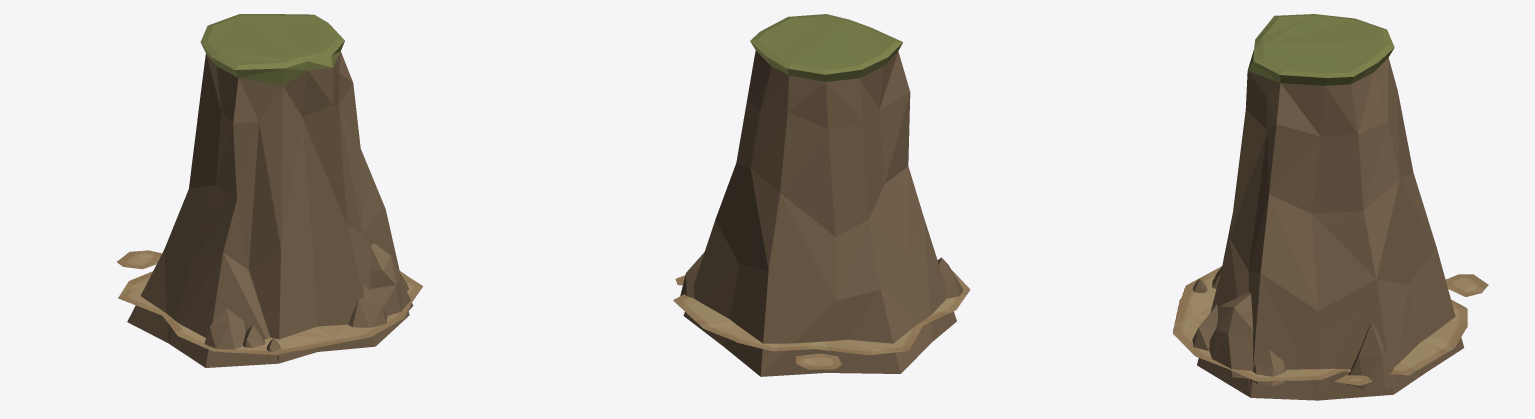
Rendered from cliff.fbx.
The picture shows the model from 3 angles, left to right: view 1: azimuth 30°, elevation 25°; view 2: azimuth 150°, elevation 25°; view 3: azimuth 270°, elevation 25°; orthographic projection. The views are drawn at different scales.
Parts seen in each view (by area): view 1: cliff, groundDecal; view 2: cliff, groundDecal; view 3: cliff, groundDecal.
Boxes of the visible parts, <box> form: cliff: <box>127,14,413,367</box>; groundDecal: <box>117,250,422,354</box>; cliff: <box>680,14,963,376</box>; groundDecal: <box>673,270,970,369</box>; cliff: <box>1192,14,1464,400</box>; groundDecal: <box>1172,266,1488,385</box>.
Bounding box in the file's own units: 4 × 3.31 × 4.
